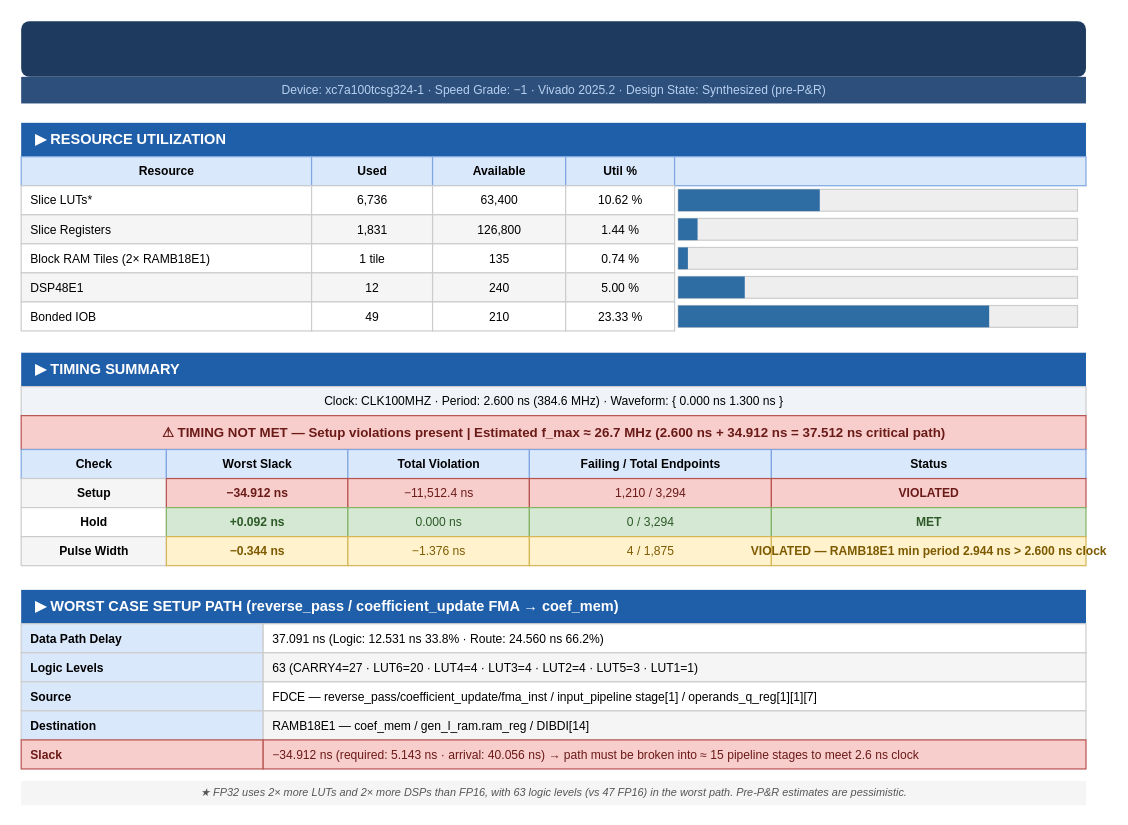
Image size: 1128x825. Some labels were removed from this diagram. Here are the shapes that lost their labels. From the top down, the centre of each, then its label:
the point at 553,48: FP32 — Polynomial Regression Synthesis Summary
the point at 879,170: Usage Bar (full bar = 30 %)
